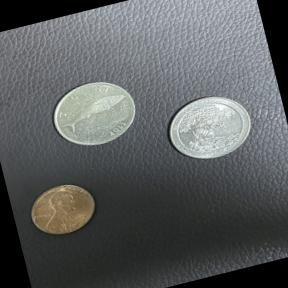coin: (40, 68, 148, 158), (157, 83, 262, 171), (19, 172, 106, 246)
